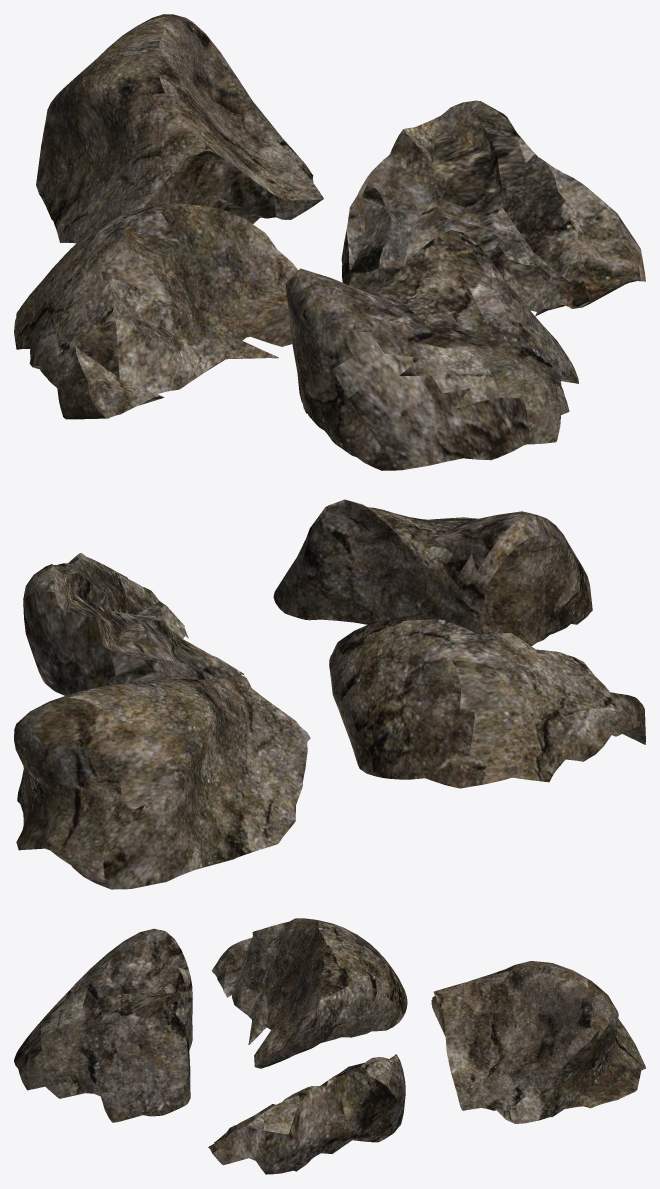
Rendered from Rocks.fbx.
The picture shows the model from 3 angles, top to bottom: view 1: azimuth 30°, elevation 25°; view 2: azimuth 150°, elevation 25°; view 3: azimuth 270°, elevation 25°; orthographic projection. The views are drawn at different scales.
Visible parts, largest first — view 1: Rocks; view 2: Rocks; view 3: Rocks.
Part boxes in pixels (<box>): Rocks: <box>14,14,645,470</box>; Rocks: <box>14,499,645,889</box>; Rocks: <box>14,918,645,1174</box>.
Bounding box in the file's own units: 50.38 × 14.6 × 65.01.
